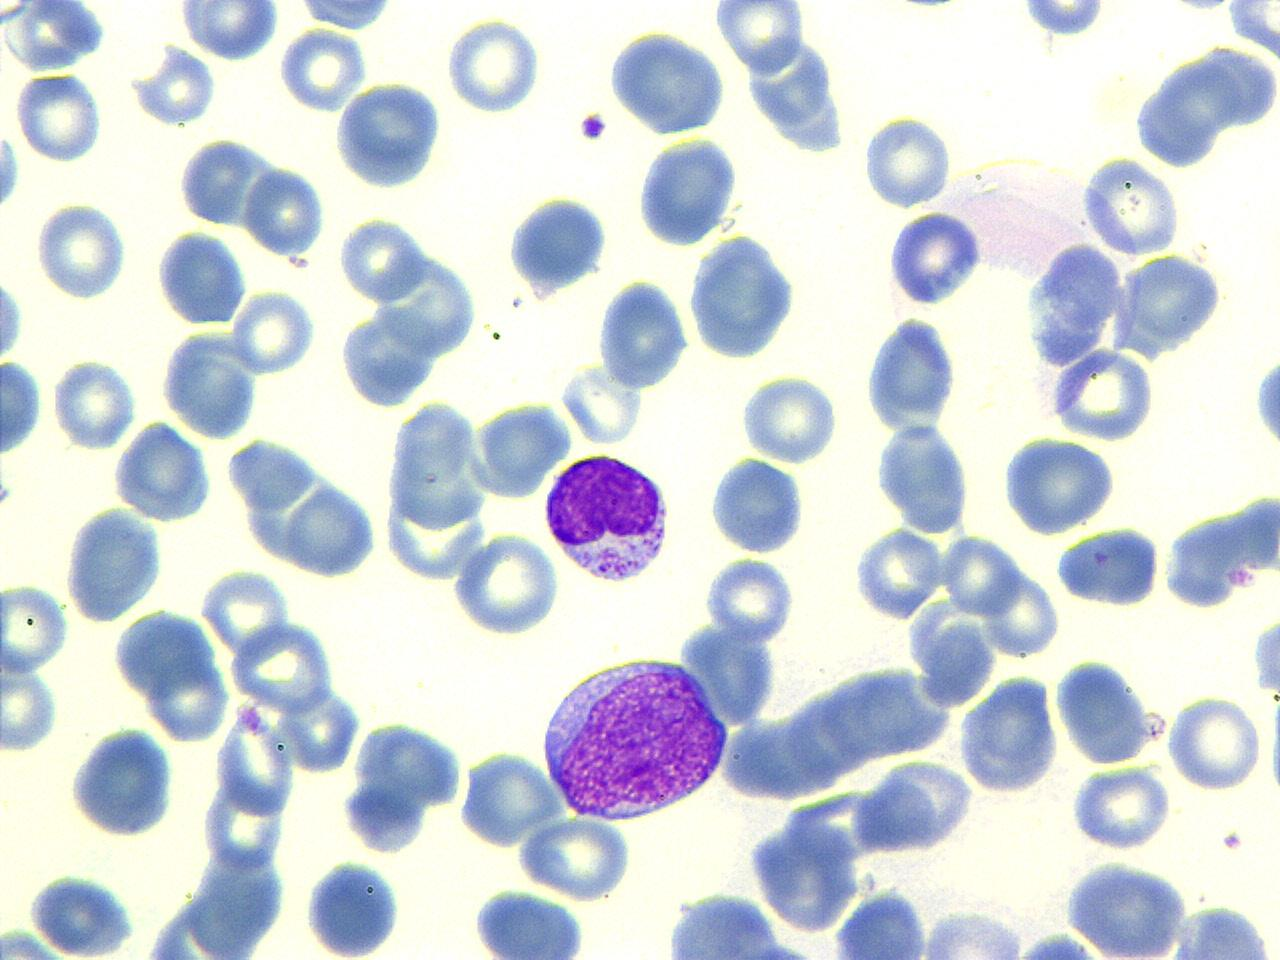Platelets: (129, 47, 218, 126), (180, 0, 281, 65), (1018, 1, 1107, 40), (1252, 355, 1280, 454), (1251, 616, 1280, 700), (0, 272, 26, 362), (0, 131, 22, 211), (577, 109, 610, 143), (1170, 0, 1230, 15), (0, 478, 16, 511)
RBC: (606, 23, 730, 141), (998, 432, 1118, 538), (864, 307, 964, 434), (1052, 656, 1158, 768), (452, 532, 563, 638), (1079, 153, 1183, 258), (1047, 345, 1157, 443), (229, 618, 336, 716), (213, 699, 298, 820), (444, 14, 544, 118), (518, 812, 636, 899), (1165, 691, 1265, 793), (736, 372, 842, 467), (175, 133, 278, 230), (33, 199, 130, 301), (860, 111, 954, 210), (198, 564, 294, 659), (852, 522, 944, 621), (1069, 763, 1173, 851), (307, 862, 403, 956), (14, 69, 106, 165), (702, 554, 798, 645), (50, 354, 140, 450), (276, 23, 368, 116), (337, 213, 425, 304), (558, 356, 646, 448), (244, 163, 326, 260), (230, 287, 317, 377), (982, 566, 1061, 659), (940, 530, 1021, 620), (0, 577, 72, 678), (712, 1, 804, 75), (1, 644, 60, 757), (178, 0, 281, 63), (918, 906, 1028, 958), (288, 0, 399, 34)
WBC: (0, 0, 534, 518), (0, 409, 495, 960), (1016, 220, 1237, 465), (532, 650, 730, 822), (331, 229, 482, 412), (224, 434, 386, 583), (1128, 40, 1280, 176), (380, 397, 495, 572), (541, 447, 675, 588), (338, 714, 470, 854), (686, 229, 804, 364), (742, 24, 854, 159), (1163, 486, 1280, 614), (955, 669, 1063, 800), (606, 25, 731, 136), (1061, 854, 1193, 958), (65, 722, 180, 840), (334, 77, 449, 194), (999, 432, 1123, 538), (654, 886, 834, 960), (634, 131, 744, 251), (61, 503, 169, 625), (862, 310, 963, 436), (873, 418, 979, 536), (1051, 655, 1159, 768), (505, 190, 613, 299), (595, 276, 693, 392), (111, 417, 217, 524), (117, 604, 226, 707), (1045, 346, 1159, 443), (703, 453, 810, 556), (884, 207, 988, 310), (162, 330, 262, 436), (302, 856, 405, 958), (25, 869, 141, 958), (1053, 522, 1165, 612), (153, 224, 250, 327), (1068, 761, 1172, 854), (177, 133, 275, 231), (468, 886, 591, 960), (1, 2, 114, 73), (828, 886, 930, 959), (0, 640, 62, 756), (1165, 903, 1277, 959), (0, 356, 47, 459)
